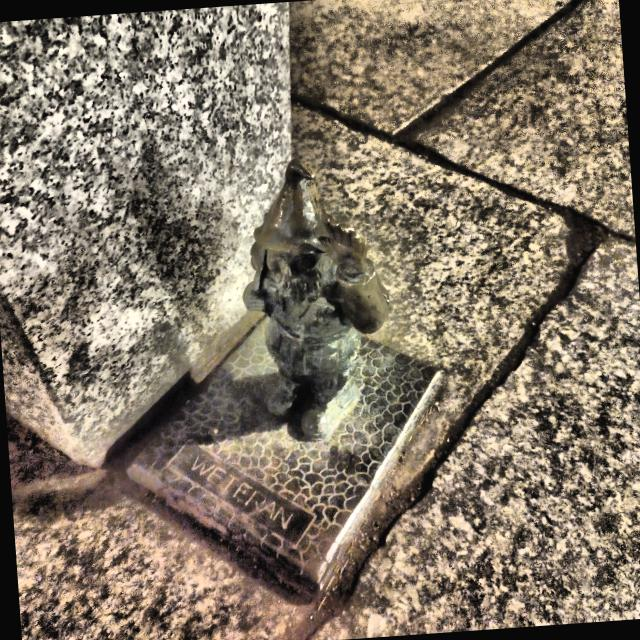Weteran: (243, 160, 389, 440)
